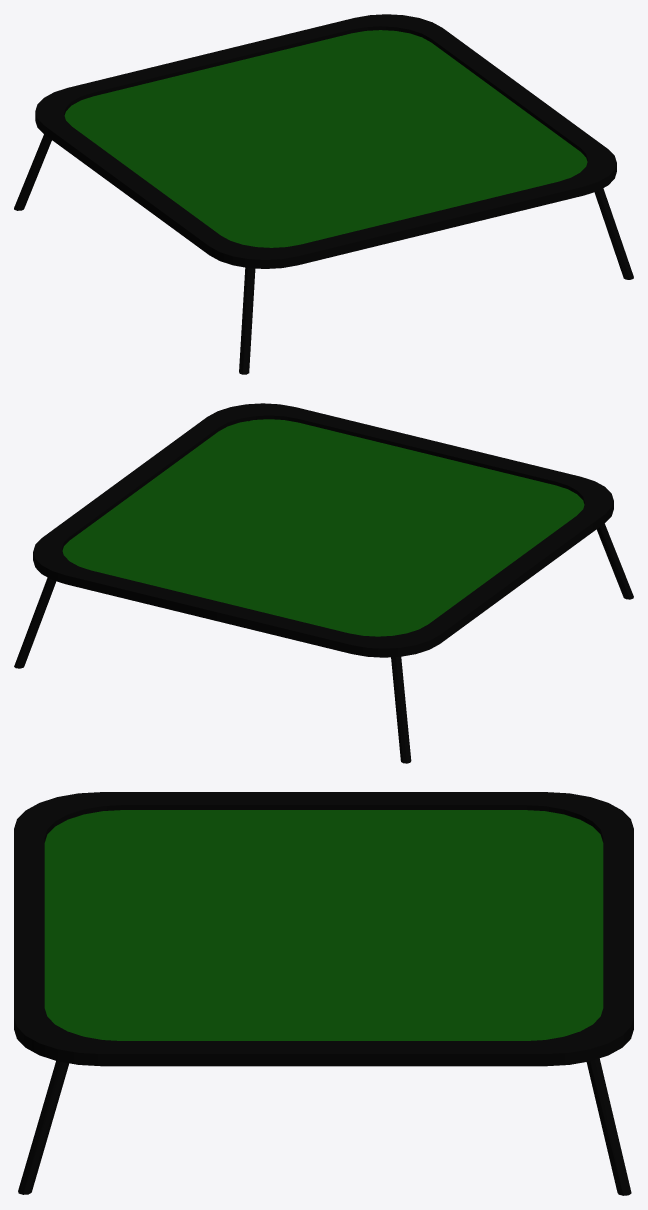
File: Trampoline.fbx
3 renders of one model, top to bottom at view 1: azimuth 30°, elevation 25°; view 2: azimuth 150°, elevation 25°; view 3: azimuth 270°, elevation 25°, orthographic. The views are drawn at different scales.
Parts seen in each view (by area): view 1: Cylinder.003; view 2: Cylinder.003; view 3: Cylinder.003.
Boxes of the visible parts, x1=… form: Cylinder.003: x1=14, y1=14, x2=633, y2=374; Cylinder.003: x1=14, y1=403, x2=633, y2=763; Cylinder.003: x1=14, y1=792, x2=633, y2=1195.
Size of the model in its own units: 200 by 50.85 by 200.
